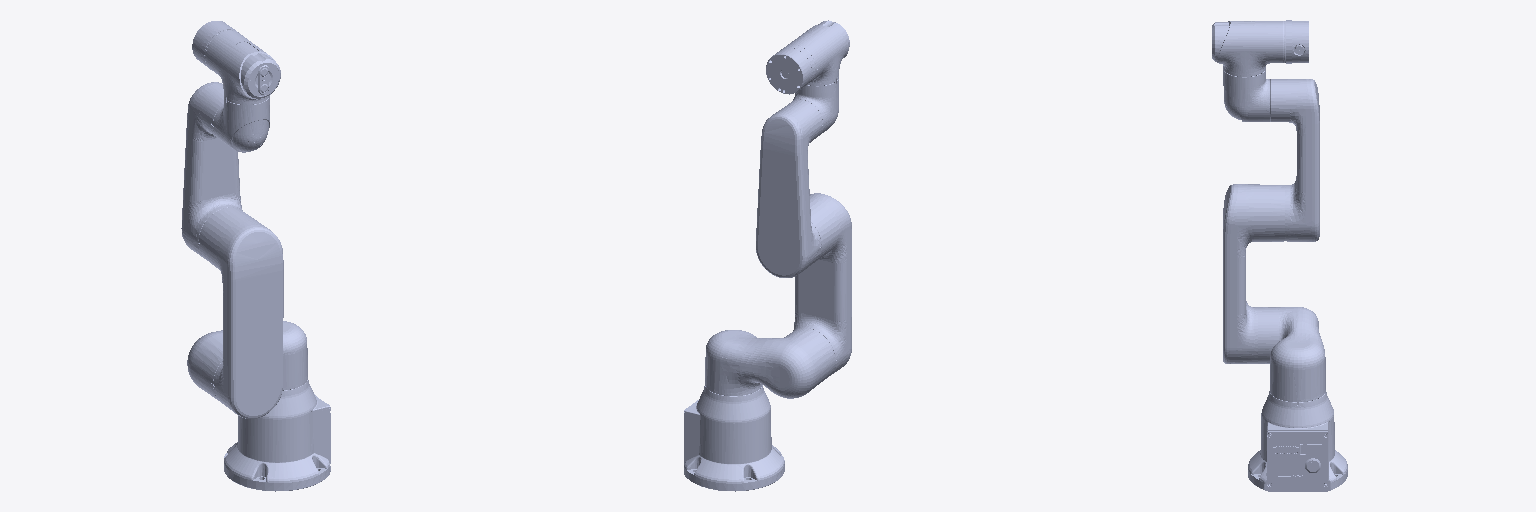
robot.urdf — rm_eco62_description:
<?xml version="1.0" encoding="utf-8"?>
<!-- This URDF was automatically created by SolidWorks to URDF Exporter! Originally created by Stephen Brawner (brawner@gmail.com)
     Commit Version: 1.6.0-1-g15f4949  Build Version: 1.6.7594.29634
     For more information, please see http://wiki.ros.org/sw_urdf_exporter -->
<robot
  name="rm_eco62_description">
  <link
    name="base_link">
    <inertial>
      <origin
        xyz="0.00169 -0.00051 0.03642"
        rpy="0 0 0" />
      <mass
        value="0.53269" />
      <inertia
        ixx="0.00082414717"
        ixy="6.88706e-06"
        ixz="-6.121187e-05"
        iyy="0.00081763768"
        iyz="7.50108e-06"
        izz="0.00071495512" />
    </inertial>
    <visual>
      <origin
        xyz="0 0 0"
        rpy="0 0 0" />
      <geometry>
        <mesh
          filename="package://rm_description/meshes/rm_eco62_arm/base_link.STL" />
      </geometry>
      <material
        name="">
        <color
          rgba="0.792156862745098 0.819607843137255 0.933333333333333 1" />
      </material>
    </visual>
    <collision>
      <origin
        xyz="0 0 0"
        rpy="0 0 0" />
      <geometry>
        <mesh
          filename="package://rm_description/meshes/rm_eco62_arm/base_link.STL" />
      </geometry>
    </collision>
  </link>
  <link
    name="link_1">
    <inertial>
      <origin
        xyz="-0.036 -0.01347 -0.00908"
        rpy="0 0 0" />
      <mass
        value="1.19575" />
      <inertia
        ixx="0.0010263165"
        ixy="-0.0005617707"
        ixz="0.0003950338"
        iyy="0.002074852"
        iyz="0.0001455465"
        izz="0.0022139276" />
    </inertial>
    <visual>
      <origin
        xyz="0 0 0"
        rpy="0 0 0" />
      <geometry>
        <mesh
          filename="package://rm_description/meshes/rm_eco62_arm/Link1.STL" />
      </geometry>
      <material
        name="">
        <color
          rgba="0.792156862745098 0.819607843137255 0.933333333333333 1" />
      </material>
    </visual>
    <collision>
      <origin
        xyz="0 0 0"
        rpy="0 0 0" />
      <geometry>
        <mesh
          filename="package://rm_description/meshes/rm_eco62_arm/Link1.STL" />
      </geometry>
    </collision>
  </link>
  <joint
    name="joint_1"
    type="revolute">
    <origin
      xyz="0 0 0.136000000000009"
      rpy="0 0 0" />
    <parent
      link="base_link" />
    <child
      link="link_1" />
    <axis
      xyz="0 0 1" />
    <limit
      lower="-3.1067"
      upper="3.1067"
      effort="10"
      velocity="3.927" />
  </joint>
  <link
    name="link_2">
    <inertial>
      <origin
        xyz="0.1198 0 -0.0396"
        rpy="0 0 0" />
      <mass
        value="0.8055" />
      <inertia
        ixx="0.0006798328"
        ixy="-1.554e-07"
        ixz="-0.0005856569"
        iyy="0.0027787685"
        iyz="-2.158e-07"
        izz="0.002559954" />
    </inertial>
    <visual>
      <origin
        xyz="0 0 0"
        rpy="0 0 0" />
      <geometry>
        <mesh
          filename="package://rm_description/meshes/rm_eco62_arm/Link2.STL" />
      </geometry>
      <material
        name="">
        <color
          rgba="0.792156862745098 0.819607843137255 0.933333333333333 1" />
      </material>
    </visual>
    <collision>
      <origin
        xyz="0 0 0"
        rpy="0 0 0" />
      <geometry>
        <mesh
          filename="package://rm_description/meshes/rm_eco62_arm/Link2.STL" />
      </geometry>
    </collision>
  </link>
  <joint
    name="joint_2"
    type="revolute">
    <origin
      xyz="-0.0700000000000007 0 0"
      rpy="-1.5707963267949 -1.5707963267949 0" />
    <parent
      link="link_1" />
    <child
      link="link_2" />
    <axis
      xyz="0 0 1" />
    <limit
      lower="-2.9496"
      upper="1.8151"
      effort="10"
      velocity="3.927" />
  </joint>
  <link
    name="link_3">
    <inertial>
      <origin
        xyz="0.0944 0 -0.002"
        rpy="0 0 0" />
      <mass
        value="0.413" />
      <inertia
        ixx="0.0001838513"
        ixy="-3.096e-07"
        ixz="-0.0001694665"
        iyy="0.0013409517"
        iyz="-1.552e-07"
        izz="0.0013534138" />
    </inertial>
    <visual>
      <origin
        xyz="0 0 0"
        rpy="0 0 0" />
      <geometry>
        <mesh
          filename="package://rm_description/meshes/rm_eco62_arm/Link3.STL" />
      </geometry>
      <material
        name="">
        <color
          rgba="0.792156862745098 0.819607843137255 0.933333333333333 1" />
      </material>
    </visual>
    <collision>
      <origin
        xyz="0 0 0"
        rpy="0 0 0" />
      <geometry>
        <mesh
          filename="package://rm_description/meshes/rm_eco62_arm/Link3.STL" />
      </geometry>
    </collision>
  </link>
  <joint
    name="joint_3"
    type="revolute">
    <origin
      xyz="0.148000000000001 0 0"
      rpy="0 0 0" />
    <parent
      link="link_2" />
    <child
      link="link_3" />
    <axis
      xyz="0 0 1" />
    <limit
      lower="-2.6354"
      upper="2.3213"
      effort="10"
      velocity="3.927" />
  </joint>
  <link
    name="link_4">
    <inertial>
      <origin
        xyz="-0.0001 -0.0168 0.0034"
        rpy="0 0 0" />
      <mass
        value="0.2386" />
      <inertia
        ixx="9.6544e-05"
        ixy="-2.05e-07"
        ixz="-4.178e-07"
        iyy="7.08919e-05"
        iyz="-1.44935e-05"
        izz="9.15269e-05" />
    </inertial>
    <visual>
      <origin
        xyz="0 0 0"
        rpy="0 0 0" />
      <geometry>
        <mesh
          filename="package://rm_description/meshes/rm_eco62_arm/Link4.STL" />
      </geometry>
      <material
        name="">
        <color
          rgba="0.792156862745098 0.819607843137255 0.933333333333333 1" />
      </material>
    </visual>
    <collision>
      <origin
        xyz="0 0 0"
        rpy="0 0 0" />
      <geometry>
        <mesh
          filename="package://rm_description/meshes/rm_eco62_arm/Link4.STL" />
      </geometry>
    </collision>
  </link>
  <joint
    name="joint_4"
    type="revolute">
    <origin
      xyz="0.136 0 -0.0585"
      rpy="0 0 1.5708" />
    <parent
      link="link_3" />
    <child
      link="link_4" />
    <axis
      xyz="0 0 1" />
    <limit
      lower="-3.002"
      upper="3.002"
      effort="3"
      velocity="3.14159" />
  </joint>
  <link
    name="link_5">
    <inertial>
      <origin
        xyz="-0.0001 0.0168 -0.0043"
        rpy="0 0 0" />
      <mass
        value="0.2633" />
      <inertia
        ixx="0.000146228"
        ixy="-1.975e-07"
        ixz="-4.456e-07"
        iyy="8.9047e-05"
        iyz="-1.93654e-05"
        izz="0.000137516" />
    </inertial>
    <visual>
      <origin
        xyz="0 0 0"
        rpy="0 0 0" />
      <geometry>
        <mesh
          filename="package://rm_description/meshes/rm_eco62_arm/Link5.STL" />
      </geometry>
      <material
        name="">
        <color
          rgba="0.792156862745098 0.819607843137255 0.933333333333333 1" />
      </material>
    </visual>
    <collision>
      <origin
        xyz="0 0 0"
        rpy="0 0 0" />
      <geometry>
        <mesh
          filename="package://rm_description/meshes/rm_eco62_arm/Link5.STL" />
      </geometry>
    </collision>
  </link>
  <joint
    name="joint_5"
    type="revolute">
    <origin
      xyz="0 -0.071 0"
      rpy="1.5707963267949 0 0" />
    <parent
      link="link_4" />
    <child
      link="link_5" />
    <axis
      xyz="0 0 1" />
    <limit
      lower="-3.002"
      upper="3.002"
      effort="3"
      velocity="3.14159" />
  </joint>
  <link
    name="link_6">
    <inertial>
      <origin
        xyz="0 -0.0001 -0.0146"
        rpy="0 0 0" />
      <mass
        value="0.0667" />
      <inertia
        ixx="1.81365e-05"
        ixy="-5.02e-08"
        ixz="-1.7e-09"
        iyy="1.77947e-05"
        iyz="-4.49e-08"
        izz="2.43725e-05" />
    </inertial>
    <visual>
      <origin
        xyz="0 0 0"
        rpy="0 0 0" />
      <geometry>
        <mesh
          filename="package://rm_description/meshes/rm_eco62_arm/Link6.STL" />
      </geometry>
      <material
        name="">
        <color
          rgba="0.792156862745098 0.819607843137255 0.933333333333333 1" />
      </material>
    </visual>
    <collision>
      <origin
        xyz="0 0 0"
        rpy="0 0 0" />
      <geometry>
        <mesh
          filename="package://rm_description/meshes/rm_eco62_arm/Link6.STL" />
      </geometry>
    </collision>
  </link>
  <joint
    name="joint_6"
    type="revolute">
    <origin
      xyz="0 0.0707 0"
      rpy="-1.5707963267949 0 0" />
    <parent
      link="link_5" />
    <child
      link="link_6" />
    <axis
      xyz="0 0 1" />
    <limit
      lower="-6.2832"
      upper="6.2832"
      effort="3"
      velocity="3.14159" />
  </joint>
</robot>

--- Facts derived from the render (not from the file) ---
The picture shows the robot from 3 angles, left to right: view 1: azimuth 30°, elevation 25°; view 2: azimuth 150°, elevation 25°; view 3: azimuth 270°, elevation 25°; orthographic projection.
Model rm_eco62_description with 7 links and 6 joints (6 revolute), rooted at base_link, posed all joints at 0.
Visible links, largest first — view 1: link_2, base_link, link_3, link_5, link_1, link_4, link_6; view 2: link_3, base_link, link_1, link_2, link_5, link_6, link_4; view 3: base_link, link_2, link_3, link_1, link_5, link_4, link_6.
Link boxes in pixels (x1,y1,x2,y2): link_2: [199, 207, 283, 418]; base_link: [224, 380, 330, 491]; link_3: [181, 82, 242, 258]; link_5: [206, 30, 280, 104]; link_1: [187, 321, 307, 400]; link_4: [213, 97, 269, 152]; link_6: [192, 21, 238, 69]; link_3: [756, 100, 822, 277]; base_link: [684, 385, 784, 491]; link_1: [705, 328, 834, 398]; link_2: [793, 193, 851, 375]; link_5: [787, 20, 849, 85]; link_6: [766, 45, 815, 94]; link_4: [793, 79, 838, 135]; base_link: [1248, 391, 1347, 491]; link_2: [1223, 184, 1284, 363]; link_3: [1270, 79, 1319, 241]; link_1: [1258, 307, 1325, 401]; link_5: [1212, 21, 1283, 76]; link_4: [1223, 70, 1269, 121]; link_6: [1284, 20, 1308, 63].
Size in the robot's own frame: 0.1463 by 0.1492 by 0.5147 metres.
Meshes: 7 distinct files referenced, 7 mesh visuals loaded (7 binary STL).
